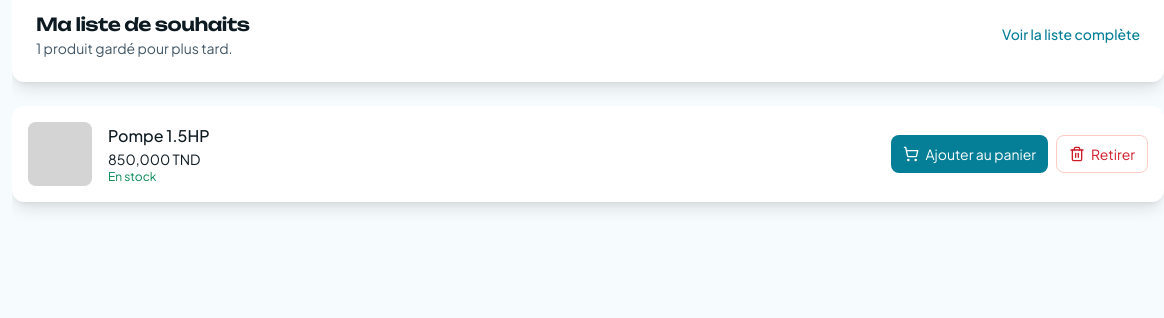
Test case: account wishlist tab › removes a product
The image size is (1164, 318).
Expected: the text "Pompe 1.5HP" is shown, [108,123,210,149]
Click the button with aria-label "Retirer Pompe 1.5HP de la liste" at (1102, 154), box [1056,135,1148,173]
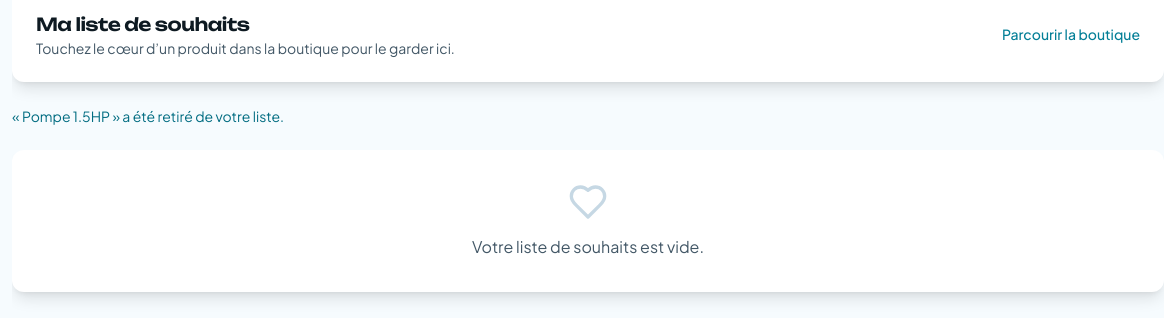
Now the text "« Pompe 1.5HP » a été retiré de votre liste." is shown, box [12,107,284,125]
Now the text "Votre liste de souhaits est vide." is shown, box [472,236,704,257]
